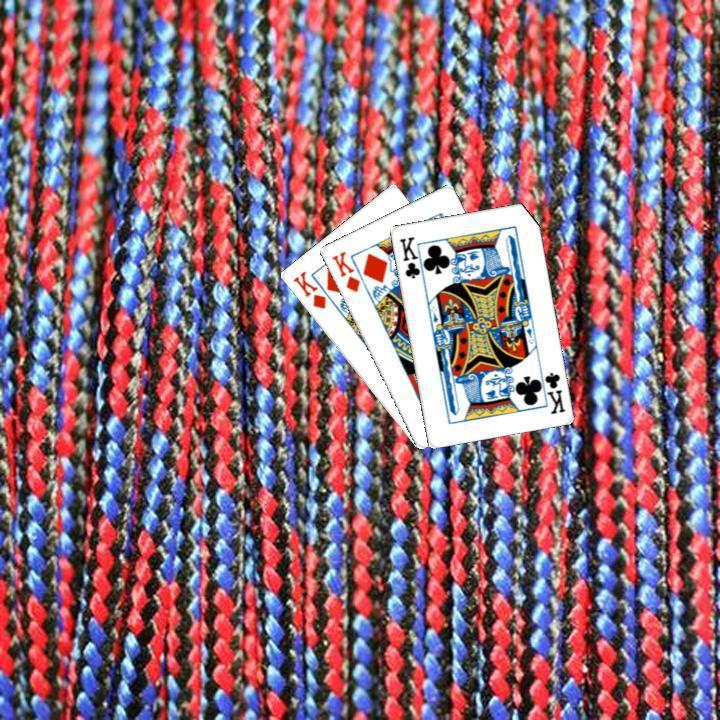K: (288, 267, 328, 311), (535, 364, 567, 416), (327, 247, 362, 294), (395, 232, 427, 283)
